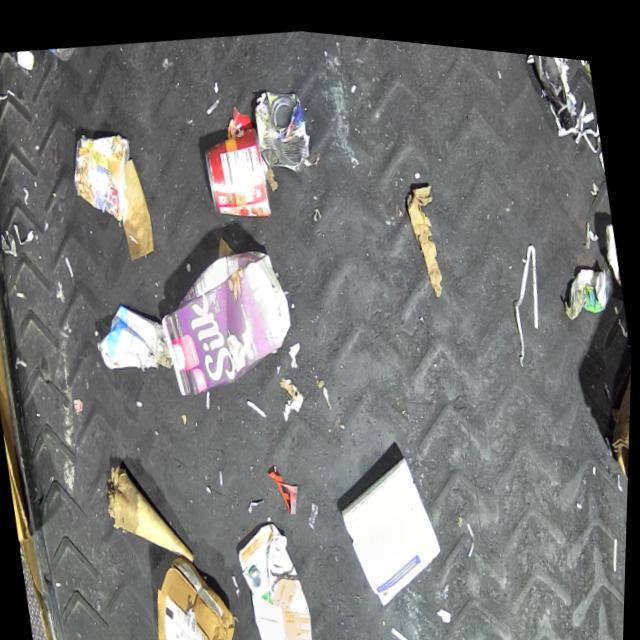can: (197, 116, 275, 222), (64, 124, 143, 227), (247, 75, 317, 174), (600, 203, 627, 291)
non_white_jug: (149, 227, 304, 402), (231, 510, 325, 640)
